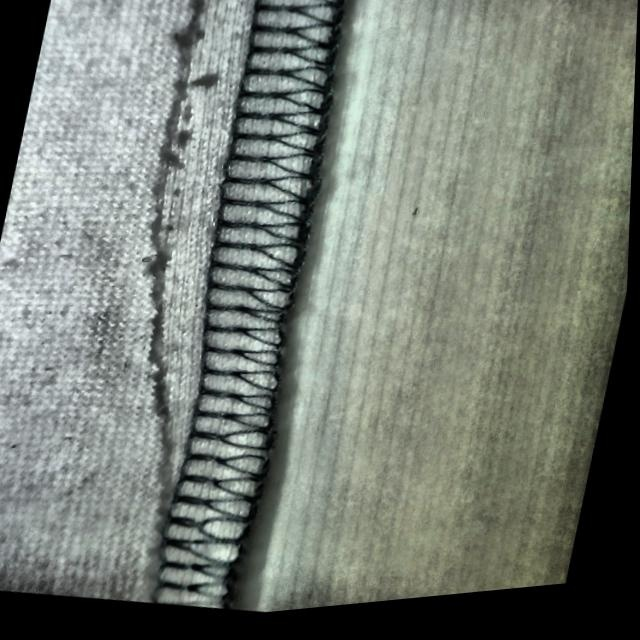seam: (33, 1, 387, 531)
